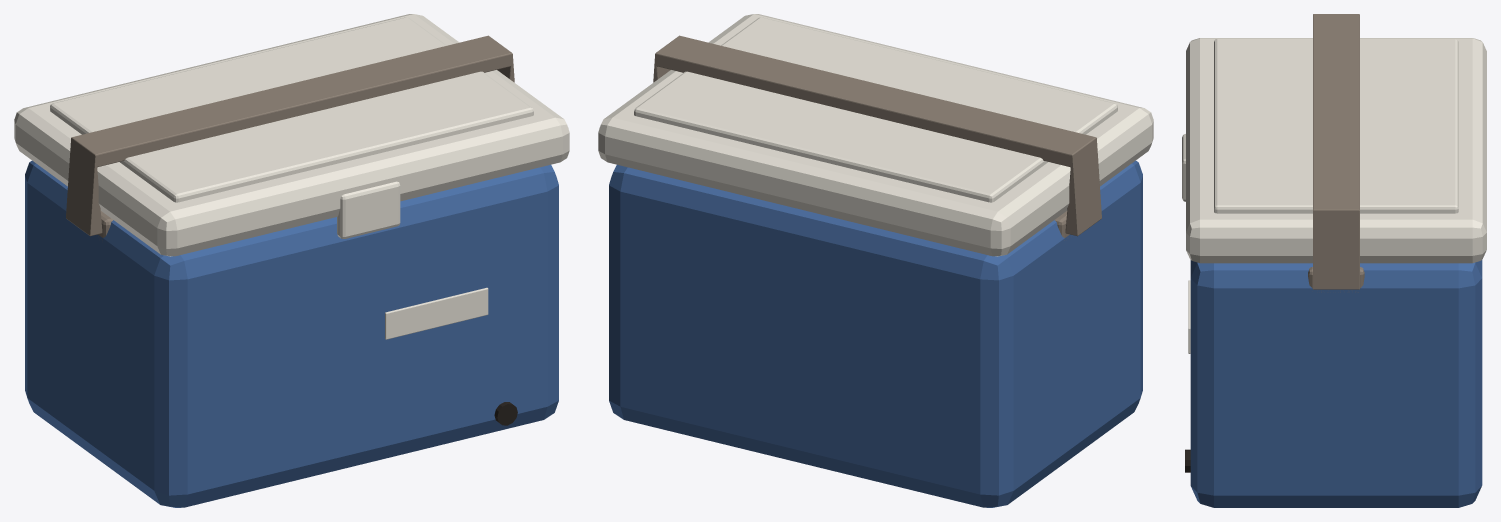
File: hh_cat_cool_box.glb
3 renders of one model, left to right at view 1: azimuth 30°, elevation 25°; view 2: azimuth 150°, elevation 25°; view 3: azimuth 270°, elevation 25°, orthographic. The views are drawn at different scales.
Parts seen in each view (by area): view 1: cooler_body, lid_rib, lid, handle, logo, latch; view 2: cooler_body, lid_rib, lid, handle; view 3: cooler_body, lid_rib, lid, handle.
Boxes of the visible parts, box(x1,y1,x2,y2) form: cooler_body: box(25, 160, 558, 507); lid_rib: box(50, 17, 533, 202); lid: box(14, 14, 569, 256); handle: box(66, 35, 514, 236); logo: box(385, 287, 488, 339); latch: box(337, 181, 400, 238); cooler_body: box(609, 160, 1142, 507); lid_rib: box(634, 17, 1117, 202); lid: box(598, 14, 1153, 256); handle: box(653, 35, 1101, 236); cooler_body: box(1190, 260, 1482, 507); lid_rib: box(1214, 39, 1458, 213); lid: box(1186, 38, 1486, 263); handle: box(1313, 14, 1359, 289).
Bounding box in the file's own units: 0.5 × 0.36 × 0.32.
